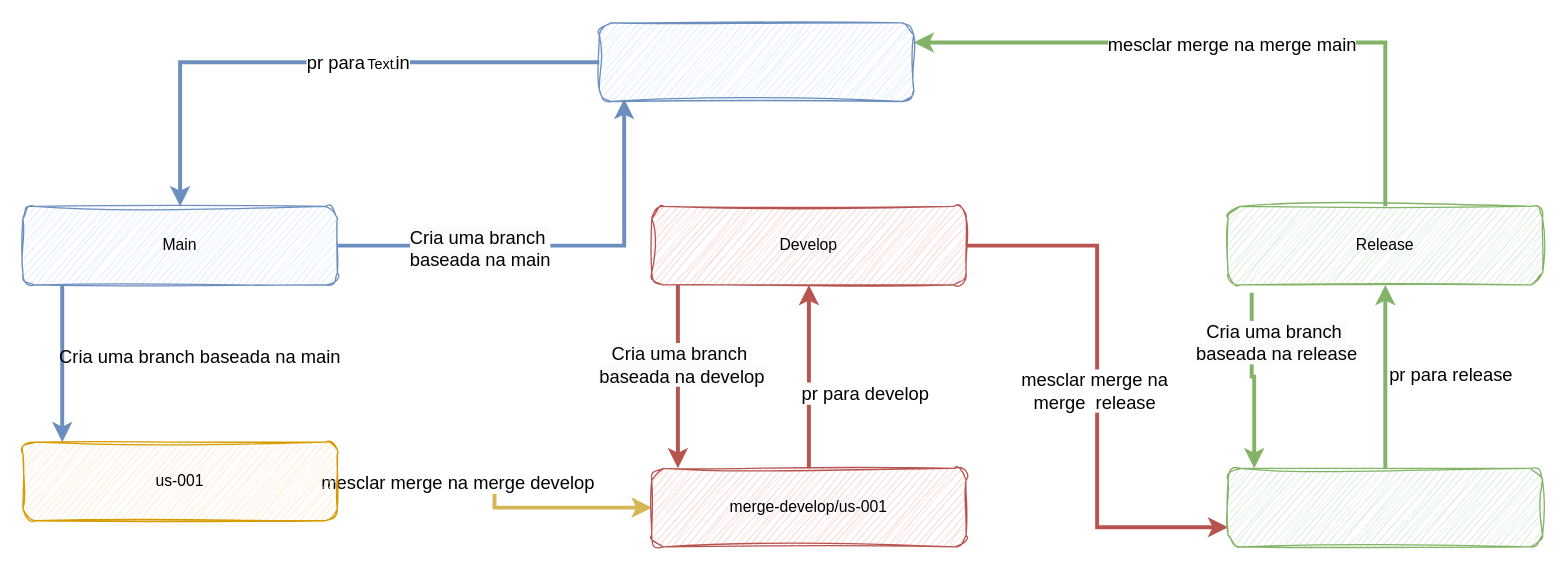
Image size: 1565x570. Some labels were removed from this diagram. The box of each missing label's shape, as (x1, y1, x2, y2) in pixels:
merge-main/us-001: (598, 22, 914, 102)
merge-release/us-001: (1227, 467, 1543, 547)
